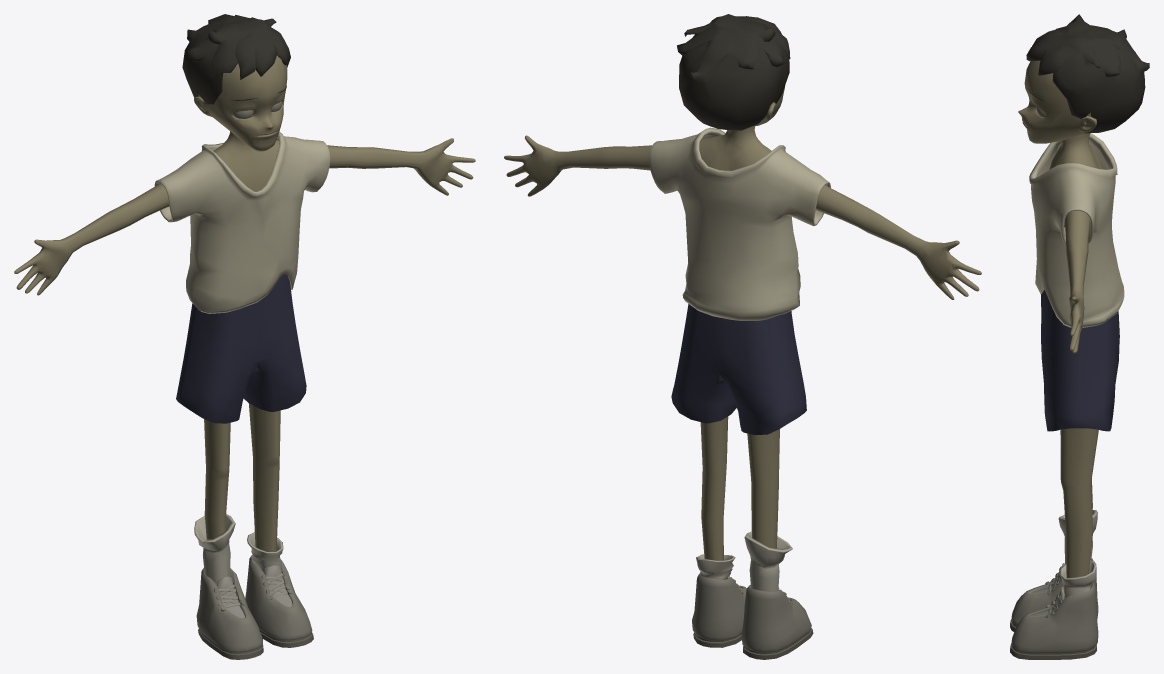
Rendered from CHARACTER  SIZE CHANGE.fbx.
3 views of the same model, side by side, from view 1: azimuth 30°, elevation 25°; view 2: azimuth 150°, elevation 25°; view 3: azimuth 270°, elevation 25° (orthographic). The views are drawn at different scales.
Parts seen in each view (by area): view 1: T_SHIRT, BODY, PANTS, HAIR02, FACE, SHOE34, SHOE33, SOCK_R, SOCK_L; view 2: T_SHIRT, BODY, PANTS, HAIR02, SHOE34, SHOE33, SOCK_R, SOCK_L; view 3: T_SHIRT, HAIR02, BODY, PANTS, SHOE33, FACE, SHOE34, SOCK_L, SHOE35, SOCK_R.
Part boxes in pixels (box(x1,y1,x2,y2)): T_SHIRT: box(154, 131, 330, 313); BODY: box(14, 131, 475, 551); PANTS: box(176, 274, 306, 423); HAIR02: box(182, 14, 290, 104); FACE: box(194, 55, 287, 151); SHOE34: box(196, 568, 262, 652); SHOE33: box(245, 554, 312, 640); SOCK_R: box(194, 514, 235, 584); SOCK_L: box(247, 532, 283, 573); T_SHIRT: box(649, 127, 830, 320); BODY: box(504, 126, 981, 560); PANTS: box(671, 304, 806, 434); HAIR02: box(677, 14, 790, 130); SHOE34: box(741, 585, 811, 652); SHOE33: box(692, 574, 746, 640); SOCK_R: box(744, 531, 792, 591); SOCK_L: box(696, 554, 735, 579); T_SHIRT: box(1029, 133, 1124, 327); HAIR02: box(1026, 14, 1149, 133); BODY: box(1049, 133, 1103, 578); PANTS: box(1041, 290, 1119, 431); SHOE33: box(1011, 582, 1098, 652); FACE: box(1018, 60, 1096, 143); SHOE34: box(1011, 558, 1098, 625); SOCK_L: box(1060, 560, 1096, 598); SHOE35: box(1010, 643, 1096, 659); SOCK_R: box(1058, 510, 1097, 564).
Bounding box in the file's own units: 1.62 × 2.03 × 0.4225.
